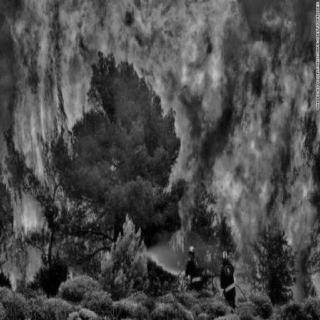Fire: (3, 4, 315, 302)
